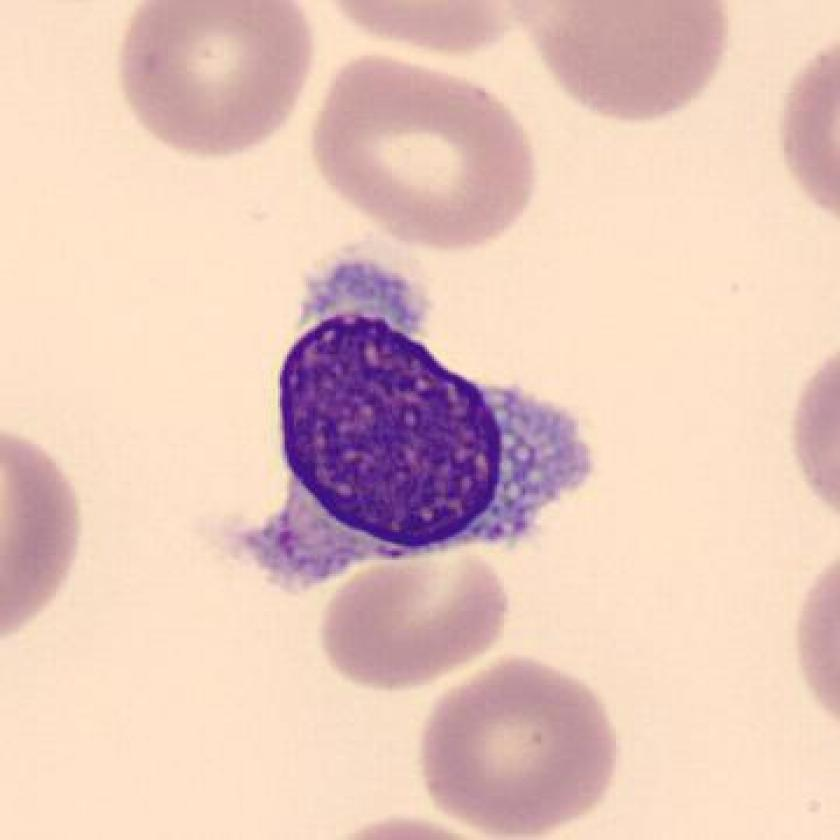lymphocyte: (216, 251, 603, 603)
